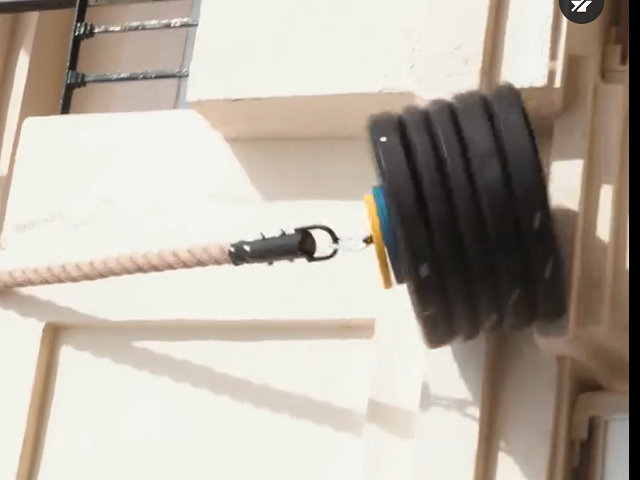weights: (362, 81, 568, 350)
